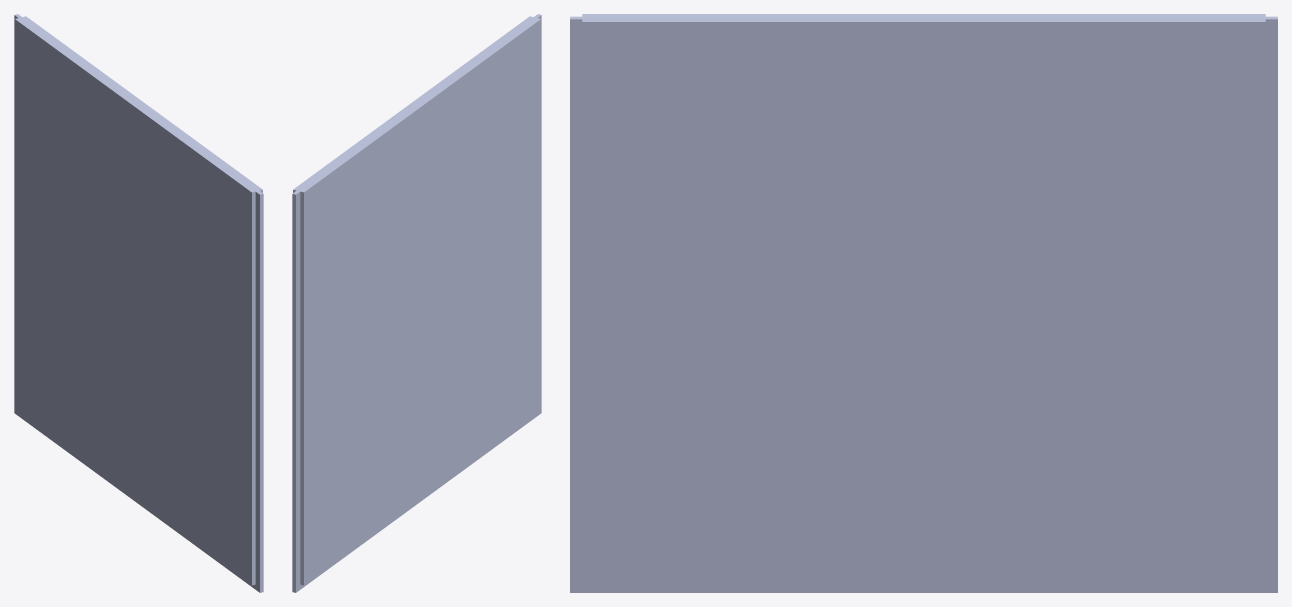
File: OverflowPlate_30cm.fbx
3 renders of one model, left to right at view 1: azimuth 30°, elevation 25°; view 2: azimuth 150°, elevation 25°; view 3: azimuth 270°, elevation 25°, orthographic. The views are drawn at different scales.
Parts seen in each view (by area): view 1: 凸台_拉伸2; view 2: 凸台_拉伸2; view 3: 凸台_拉伸2.
Boxes of the visible parts, x1,y1,x2,y2 form: 凸台_拉伸2: (14,14,263,592); 凸台_拉伸2: (292,14,541,592); 凸台_拉伸2: (570,14,1277,592).
Size of the model in its own units: 0.3543 by 11.97 by 13.39.
